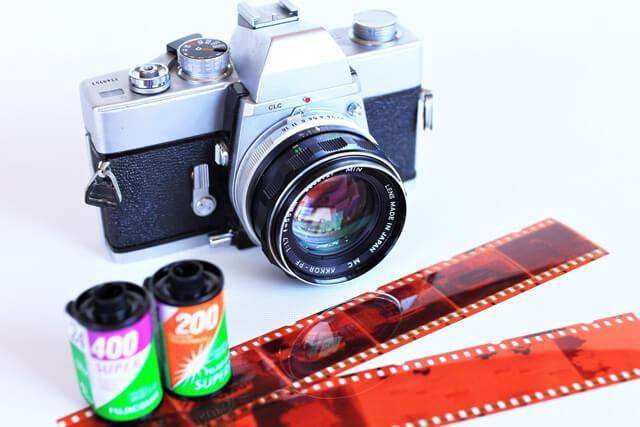degital-camera: (72, 0, 438, 288)
